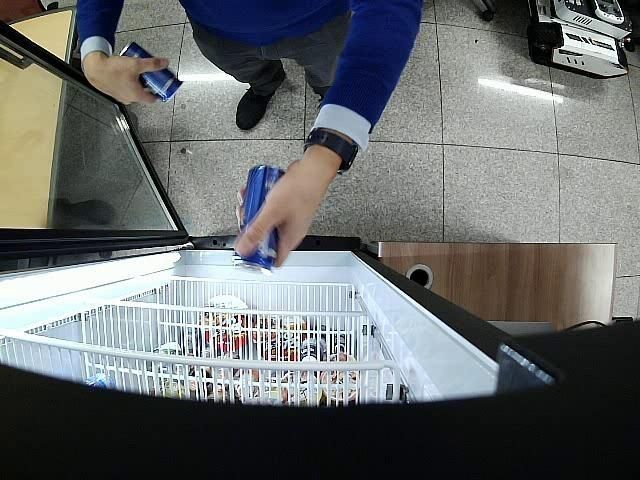16_hot6: (234, 166, 286, 274), (120, 41, 182, 103)
